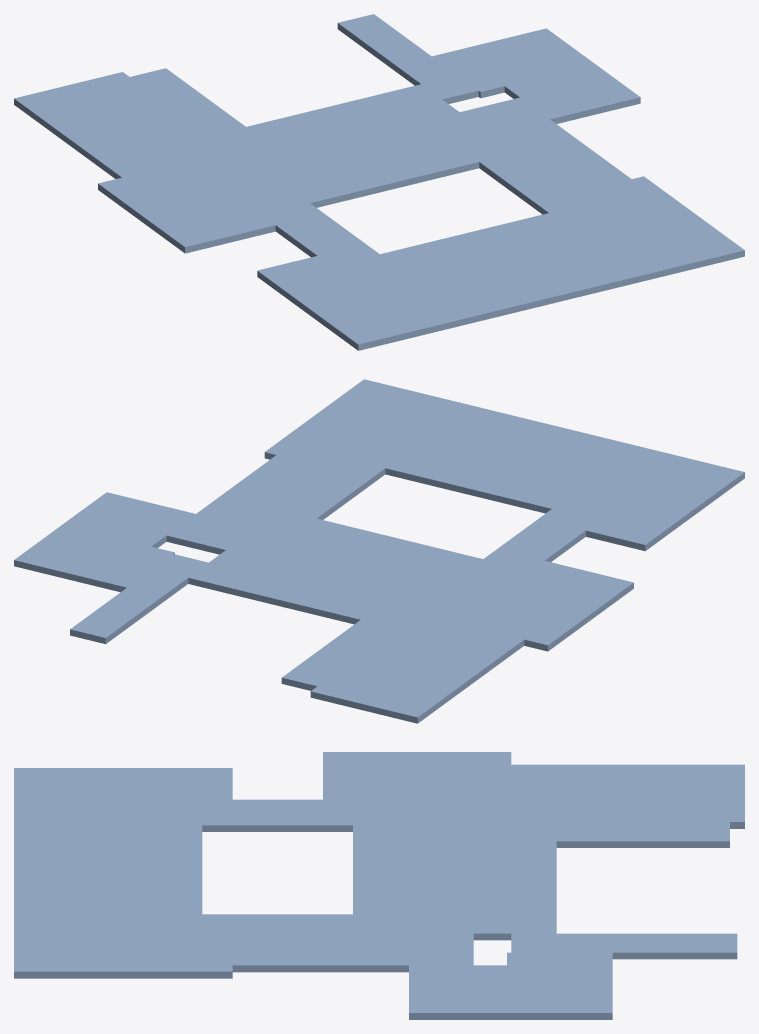
File: Floor0_tops.fbx
3 renders of one model, top to bottom at view 1: azimuth 30°, elevation 25°; view 2: azimuth 150°, elevation 25°; view 3: azimuth 270°, elevation 25°, orthographic. The views are drawn at different scales.
Visible parts, largest first — view 1: Roof_floor1_polySurface17, Hallway23, Roof_floor, Hallway46, Hallway37, Floor_kitchen:polySurface1, Hallway35, Hallway36, Hallway34, Hallway43, Hallway29; view 2: Roof_floor1_polySurface17, Hallway23, Roof_floor, Hallway46, Hallway37, Floor_kitchen:polySurface1, Hallway34, Hallway35, Hallway36, Hallway43, Hallway29; view 3: Roof_floor1_polySurface17, Hallway23, Roof_floor, Hallway46, Hallway37, Floor_kitchen:polySurface1, Hallway36, Hallway35, Hallway34, Hallway43, Hallway29.
Boxes of the visible parts, x1=… form: Roof_floor1_polySurface17: x1=98, y1=135, x2=527, y2=350; Hallway23: x1=234, y1=129, x2=628, y2=286; Roof_floor: x1=472, y1=176, x2=744, y2=309; Hallway46: x1=14, y1=72, x2=230, y2=178; Hallway37: x1=432, y1=28, x2=640, y2=124; Floor_kitchen:polySurface1: x1=346, y1=97, x2=589, y2=160; Hallway35: x1=337, y1=14, x2=478, y2=103; Hallway36: x1=130, y1=68, x2=287, y2=165; Hallway34: x1=246, y1=84, x2=441, y2=141; Hallway43: x1=542, y1=148, x2=648, y2=203; Hallway29: x1=297, y1=123, x2=390, y2=167; Roof_floor1_polySurface17: x1=352, y1=431, x2=744, y2=651; Hallway23: x1=242, y1=434, x2=629, y2=590; Roof_floor: x1=264, y1=379, x2=577, y2=472; Hallway46: x1=310, y1=613, x2=524, y2=723; Hallway37: x1=14, y1=492, x2=218, y2=592; Floor_kitchen:polySurface1: x1=166, y1=485, x2=348, y2=585; Hallway34: x1=188, y1=562, x2=380, y2=624; Hallway35: x1=70, y1=554, x2=208, y2=644; Hallway36: x1=281, y1=589, x2=436, y2=690; Hallway43: x1=235, y1=442, x2=340, y2=496; Hallway29: x1=304, y1=553, x2=395, y2=597; Roof_floor1_polySurface17: x1=14, y1=752, x2=511, y2=856; Hallway23: x1=134, y1=799, x2=413, y2=939; Roof_floor: x1=14, y1=857, x2=232, y2=978; Hallway46: x1=511, y1=764, x2=744, y2=828; Hallway37: x1=409, y1=952, x2=612, y2=1019; Floor_kitchen:polySurface1: x1=323, y1=882, x2=511, y2=972; Hallway36: x1=466, y1=822, x2=729, y2=847; Hallway35: x1=511, y1=933, x2=737, y2=959; Hallway34: x1=511, y1=841, x2=556, y2=933; Hallway43: x1=195, y1=940, x2=322, y2=972; Hallway29: x1=413, y1=857, x2=511, y2=882.
Size of the model in its own units: 4100 by 50 by 4850.
